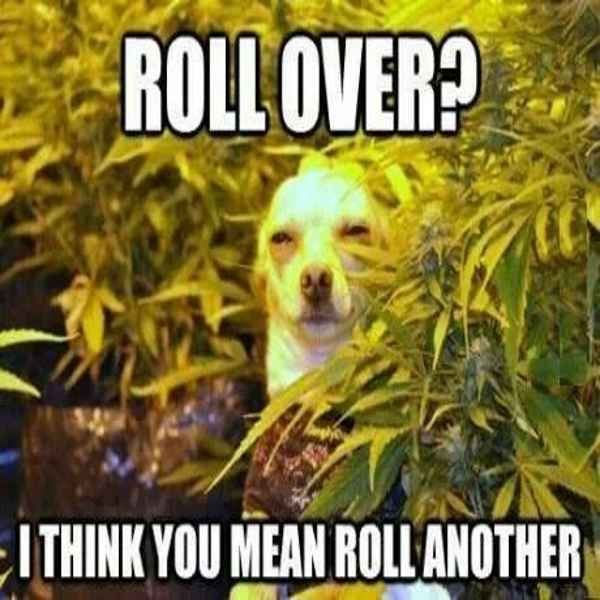doge: (264, 171, 384, 348)
